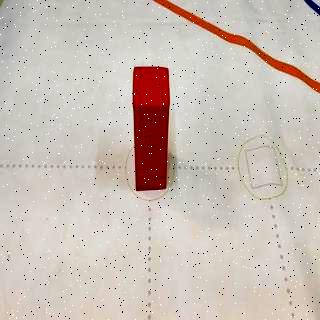redbox: (132, 64, 170, 190)
